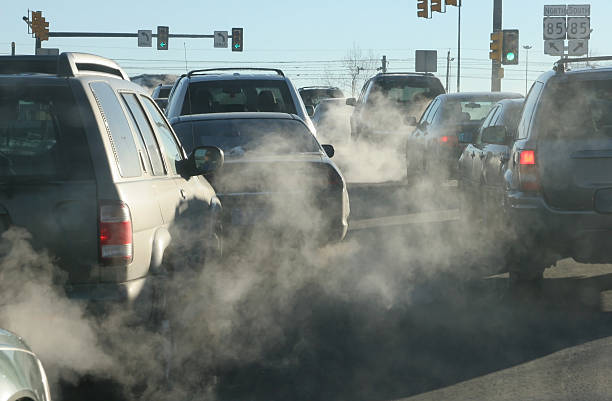car: (1, 54, 223, 342), (175, 110, 352, 264), (517, 67, 612, 280), (409, 90, 512, 195), (353, 66, 439, 168)
left turn: (213, 31, 227, 49), (138, 30, 152, 46)
